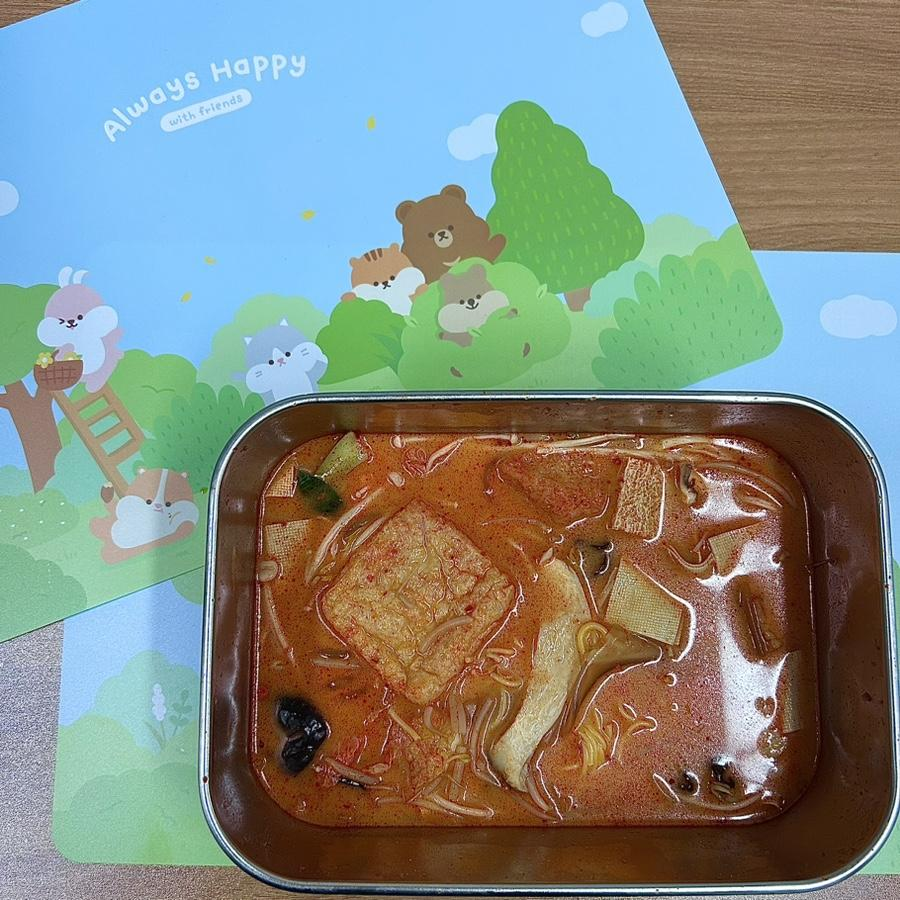Lunch Box: (202, 394, 897, 892)
